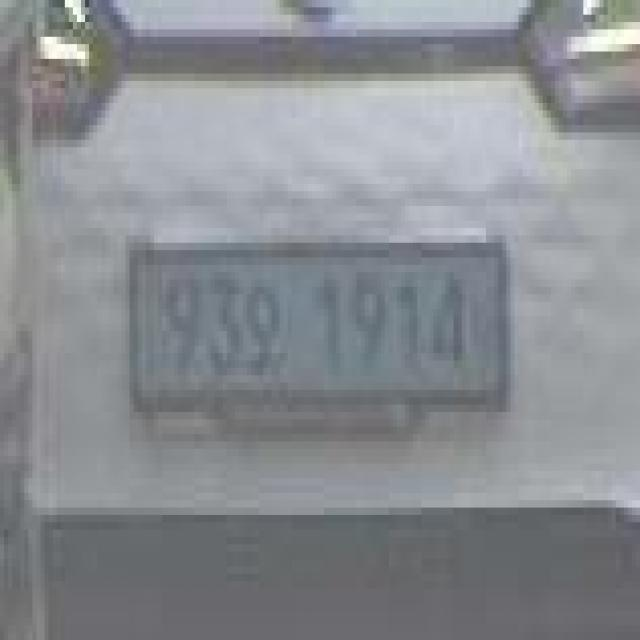EV_plate: (127, 235, 521, 437)
